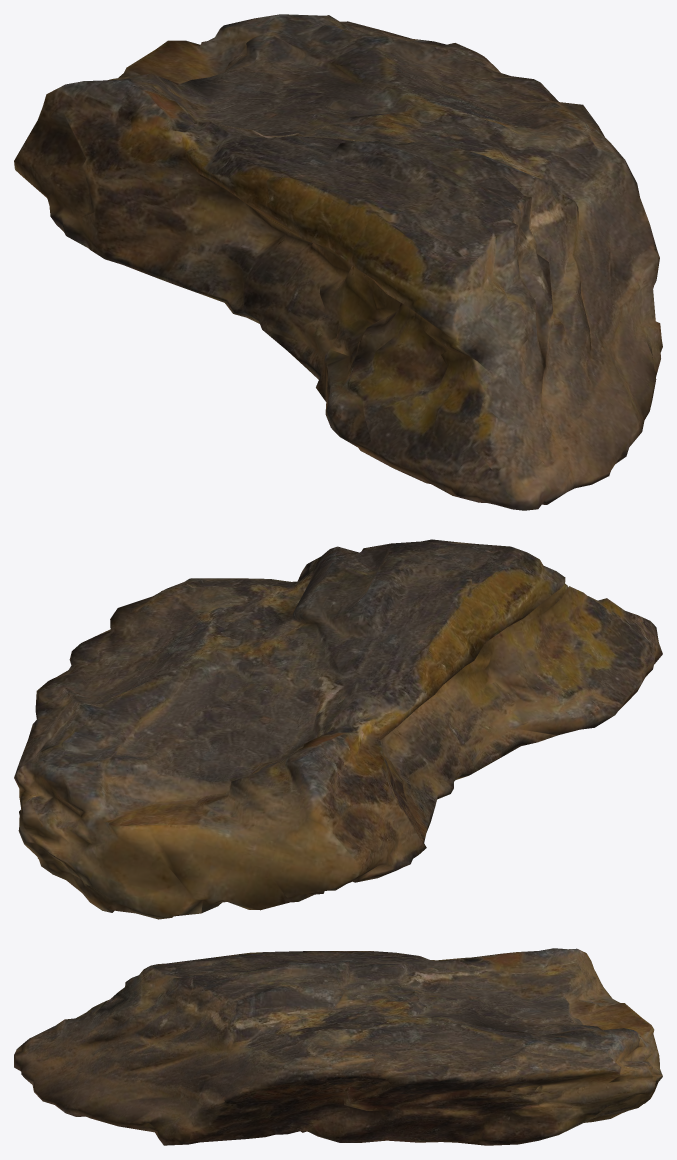
The model's file is rock_09.glb.
3 renders of one model, top to bottom at view 1: azimuth 30°, elevation 25°; view 2: azimuth 150°, elevation 25°; view 3: azimuth 270°, elevation 25°, orthographic. The views are drawn at different scales.
Visible parts, largest first — view 1: rock_09_LOD0; view 2: rock_09_LOD0; view 3: rock_09_LOD0.
Boxes of the visible parts, left/top/right/bottom form: rock_09_LOD0: left=14, top=14, right=662, bottom=510; rock_09_LOD0: left=14, top=539, right=662, bottom=919; rock_09_LOD0: left=14, top=948, right=662, bottom=1145.
Size of the model in its own units: 0.0739 by 0.0328 by 0.1446.
1 material, 1 textured.
